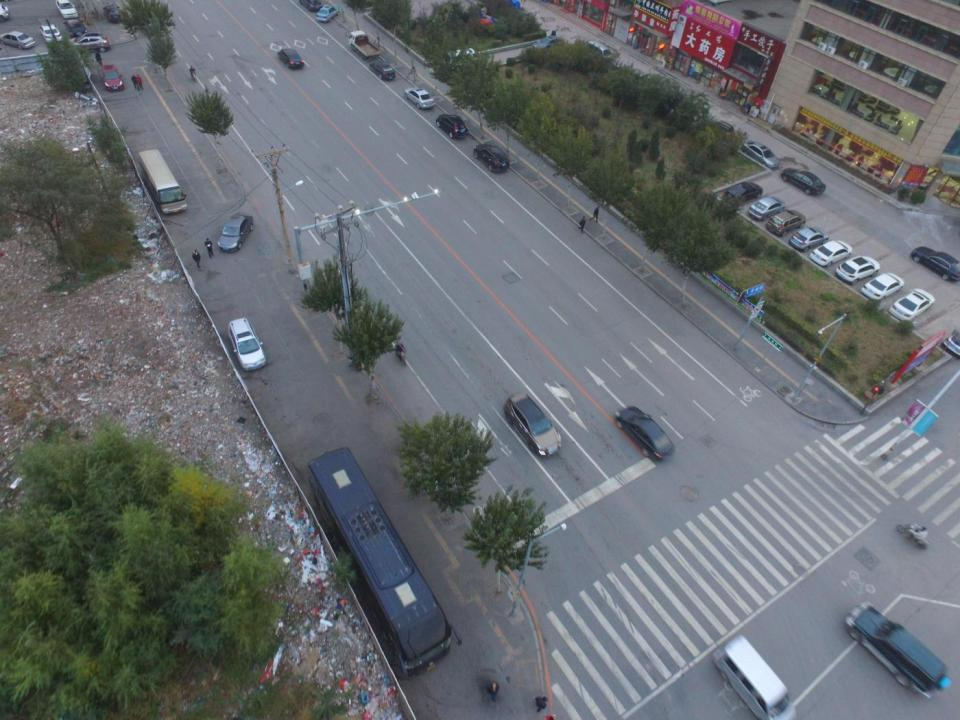bus: (139, 148, 189, 216)
car: (845, 601, 950, 698), (504, 392, 562, 458), (614, 407, 673, 461), (228, 316, 267, 370), (910, 245, 960, 283), (888, 287, 935, 321), (218, 212, 254, 255), (782, 167, 828, 196), (834, 256, 880, 285), (862, 273, 904, 304), (809, 239, 853, 268), (764, 210, 806, 236), (742, 142, 781, 169), (474, 144, 509, 173), (788, 228, 828, 252), (66, 34, 112, 54), (724, 180, 762, 204), (750, 195, 785, 220), (436, 113, 468, 140), (0, 30, 36, 50), (404, 87, 433, 111), (100, 66, 124, 90), (709, 120, 736, 141), (279, 48, 305, 69), (64, 18, 86, 40), (533, 35, 564, 50), (371, 63, 396, 81), (316, 5, 339, 24), (40, 23, 60, 44), (104, 4, 126, 22), (58, 0, 78, 19), (298, 0, 321, 12)
truck: (308, 446, 458, 676), (346, 30, 380, 62)
van: (712, 633, 796, 718), (586, 39, 614, 62), (445, 49, 477, 68)
